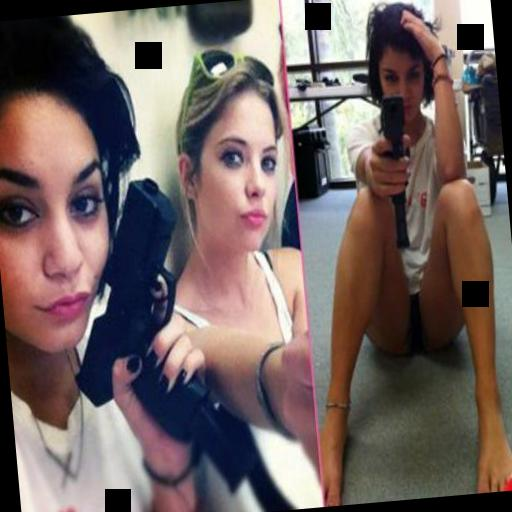Handgun: (55, 169, 259, 496), (375, 90, 414, 248)
